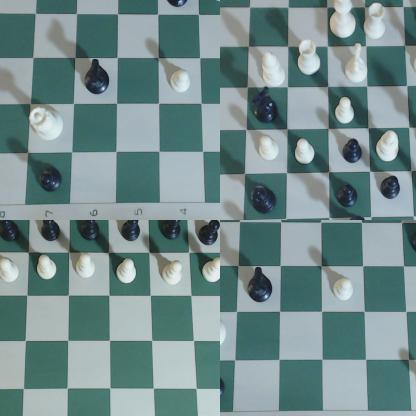black-bishop: (251, 183, 277, 217)
black-knight: (246, 265, 274, 306), (252, 86, 279, 125), (85, 58, 112, 95), (166, 1, 195, 11)
black-pawn: (36, 166, 65, 193), (196, 221, 220, 250), (380, 176, 403, 204), (342, 139, 365, 166), (340, 179, 360, 208), (78, 221, 102, 245), (1, 221, 22, 247), (39, 221, 65, 242), (159, 221, 184, 242), (122, 221, 142, 244), (221, 375, 229, 404)
white-bishop: (257, 49, 287, 90), (374, 129, 403, 168)
white-king: (327, 1, 362, 42)
white-knight: (346, 44, 368, 88)
white-pawn: (34, 253, 66, 291), (116, 258, 145, 295), (74, 253, 101, 290), (297, 135, 322, 172), (333, 94, 360, 128), (165, 260, 189, 296), (1, 253, 23, 292), (255, 136, 284, 162), (202, 254, 220, 292), (332, 277, 357, 303), (171, 67, 193, 95)
white-queen: (30, 106, 64, 142), (221, 312, 228, 350)
white-rook: (295, 36, 323, 79), (363, 6, 390, 42)
